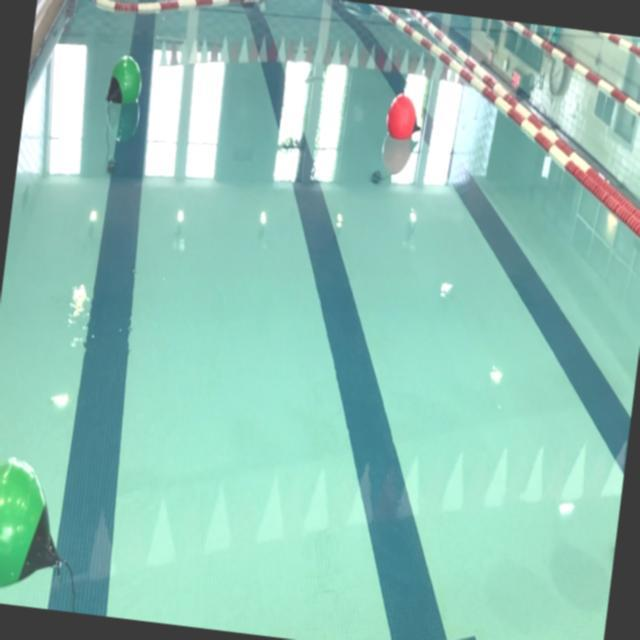buoy: (0, 449, 73, 603), (104, 52, 146, 110), (385, 91, 425, 142)
